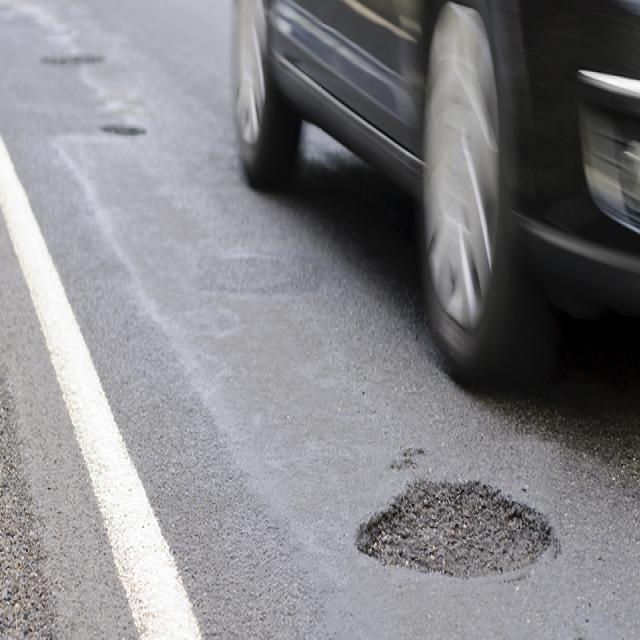Pothole: (349, 442, 562, 611)
